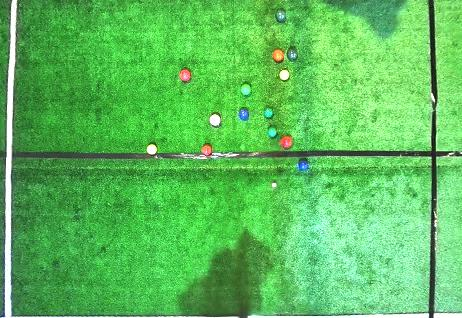blue: (237, 107, 250, 122), (298, 160, 309, 171)
green: (240, 83, 252, 95), (287, 48, 298, 61), (275, 10, 286, 22), (267, 127, 278, 138), (264, 107, 274, 119)
red: (179, 70, 191, 82), (281, 137, 292, 149), (273, 50, 284, 62), (210, 114, 220, 126), (202, 145, 212, 155)
vline: (427, 0, 461, 317), (0, 0, 21, 317)
white: (272, 183, 277, 187)
yellow: (279, 70, 290, 81), (147, 144, 157, 155)
